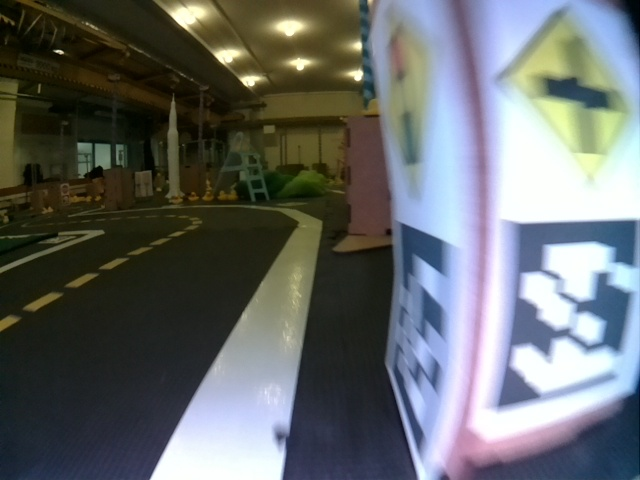Duckie: (170, 194, 183, 204), (188, 192, 198, 201), (218, 191, 227, 200), (202, 192, 212, 200), (229, 191, 237, 200)
Intersection sign: (487, 0, 637, 204)
QR code: (496, 221, 638, 408), (385, 219, 474, 459)
Signal sign: (370, 3, 464, 213)
